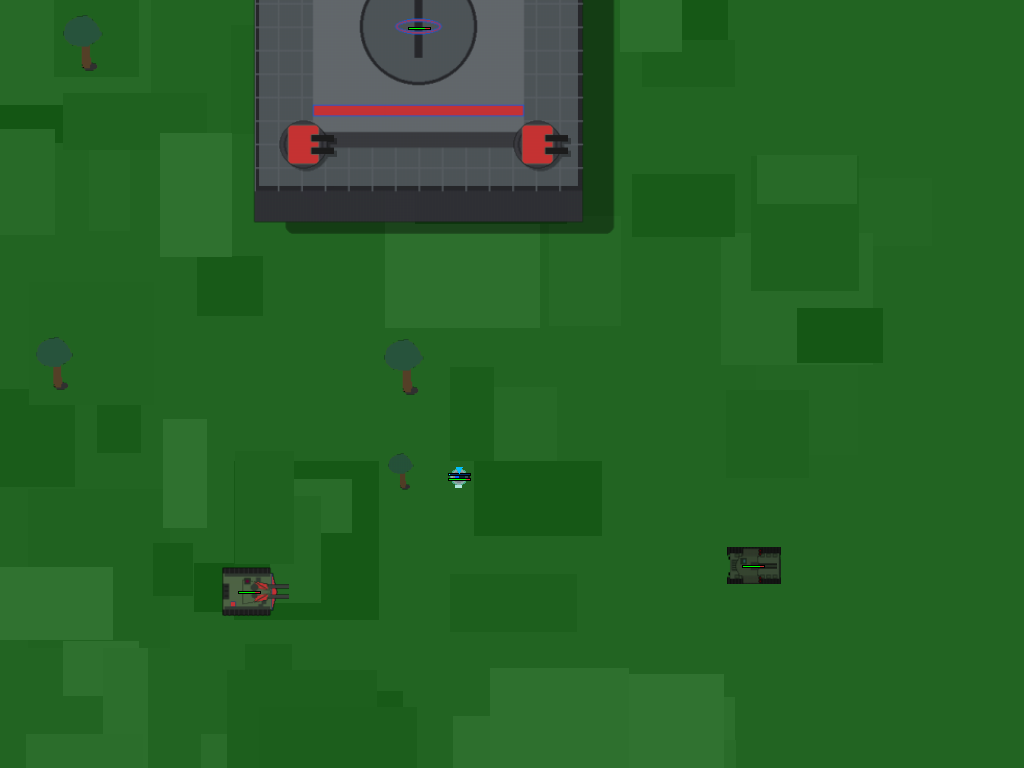Bastion: (226, 0, 612, 386)
Shotgunner: (444, 461, 474, 491)
TerminatorIFV: (730, 541, 776, 587)
Type99: (221, 563, 276, 618)
